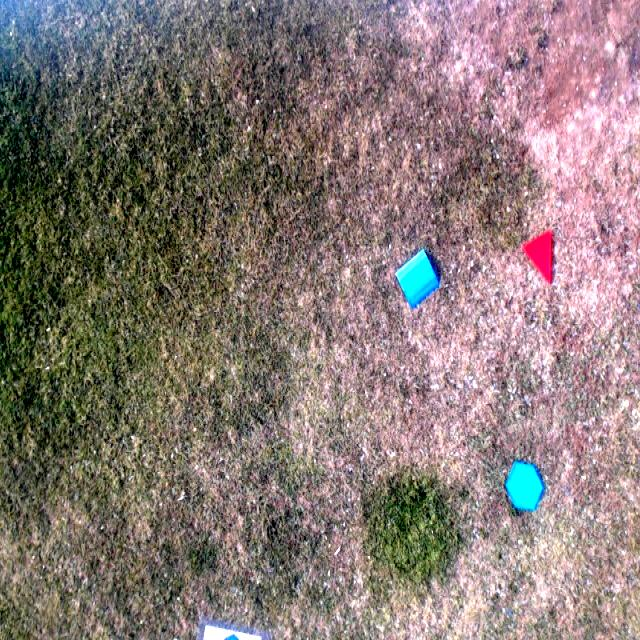blue_hexagon: (504, 462, 544, 512)
blue_square: (397, 250, 442, 308)
red_triangle: (522, 228, 553, 286)
